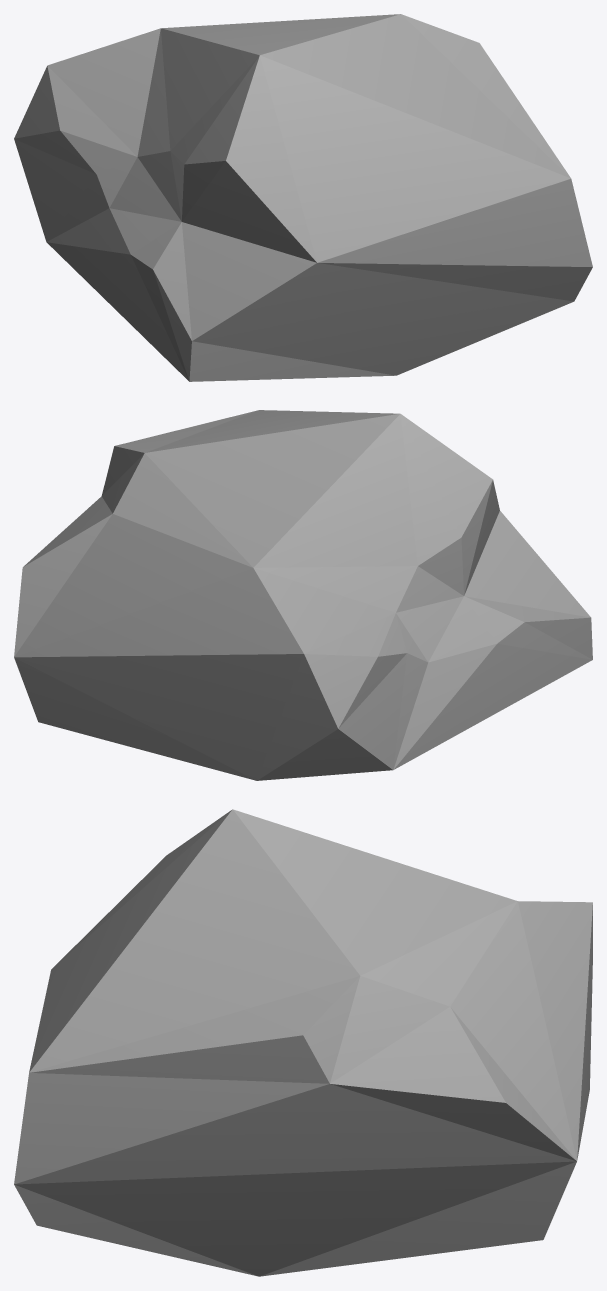
File: stone-small-10.glb
3 views of the same model, one above another, from view 1: azimuth 30°, elevation 25°; view 2: azimuth 150°, elevation 25°; view 3: azimuth 270°, elevation 25° (orthographic). The views are drawn at different scales.
Visible parts, largest first — view 1: stone small 10; view 2: stone small 10; view 3: stone small 10.
Part boxes in pixels (box(x1,y1,x2,y2)): stone small 10: box(14, 14, 592, 381); stone small 10: box(14, 410, 592, 780); stone small 10: box(14, 809, 592, 1276).
Bounding box in the file's own units: 0.4645 × 0.3538 × 0.519.
1 material, 1 textured.
